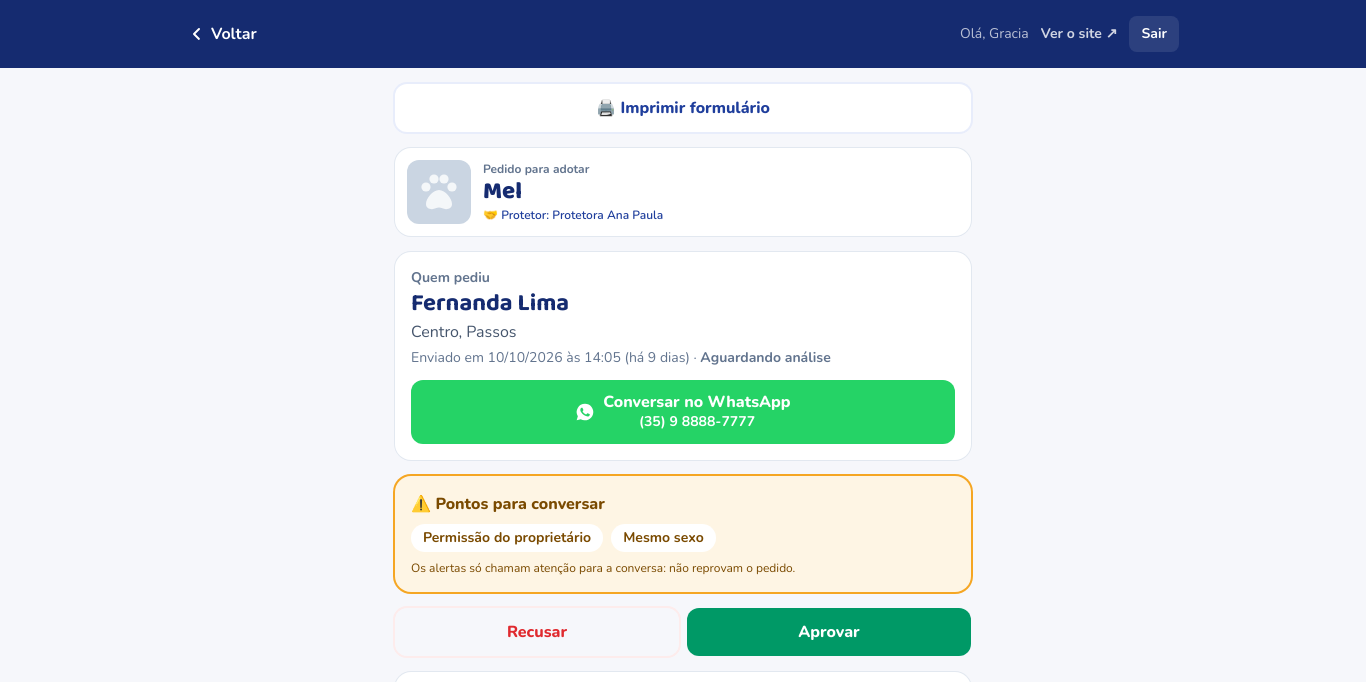
Test: Análise do pedido (T28) › aprovar mantém o animal fora do site e explica o próximo passo
Step 1. Click the button "Aprovar" → (829, 632), box [687,608,971,656]
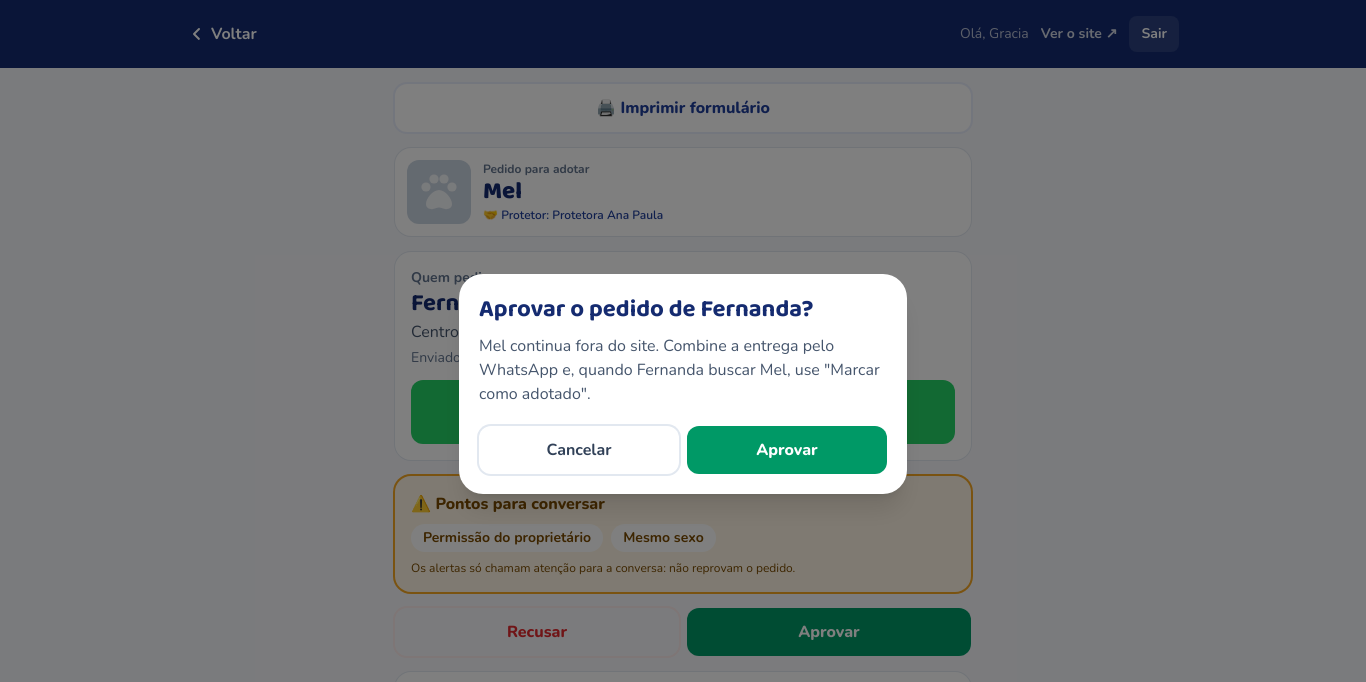
Step 2. Click the button "Aprovar" → (787, 450), box [687,426,887,474]
(page scrolled)
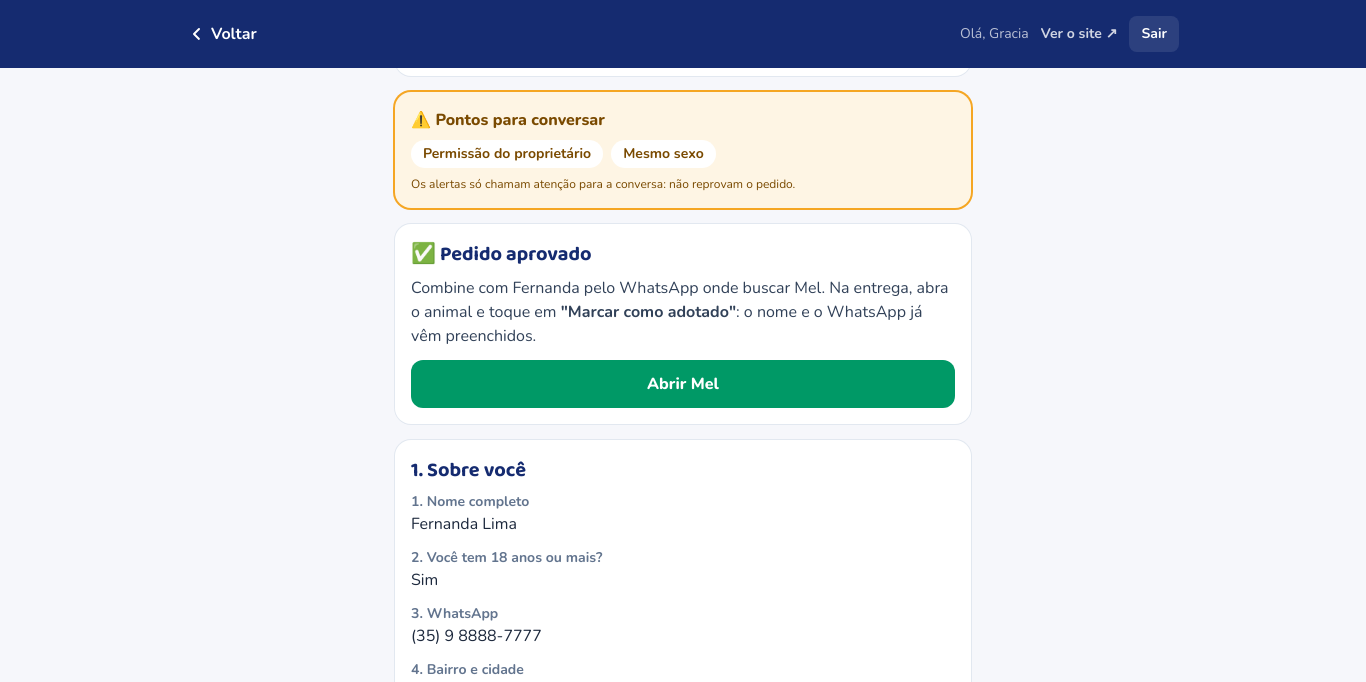
Expected: the heading "✅ Pedido aprovado" is shown, [411,238,592,270]
Expected: the button "Recusar" is gone
